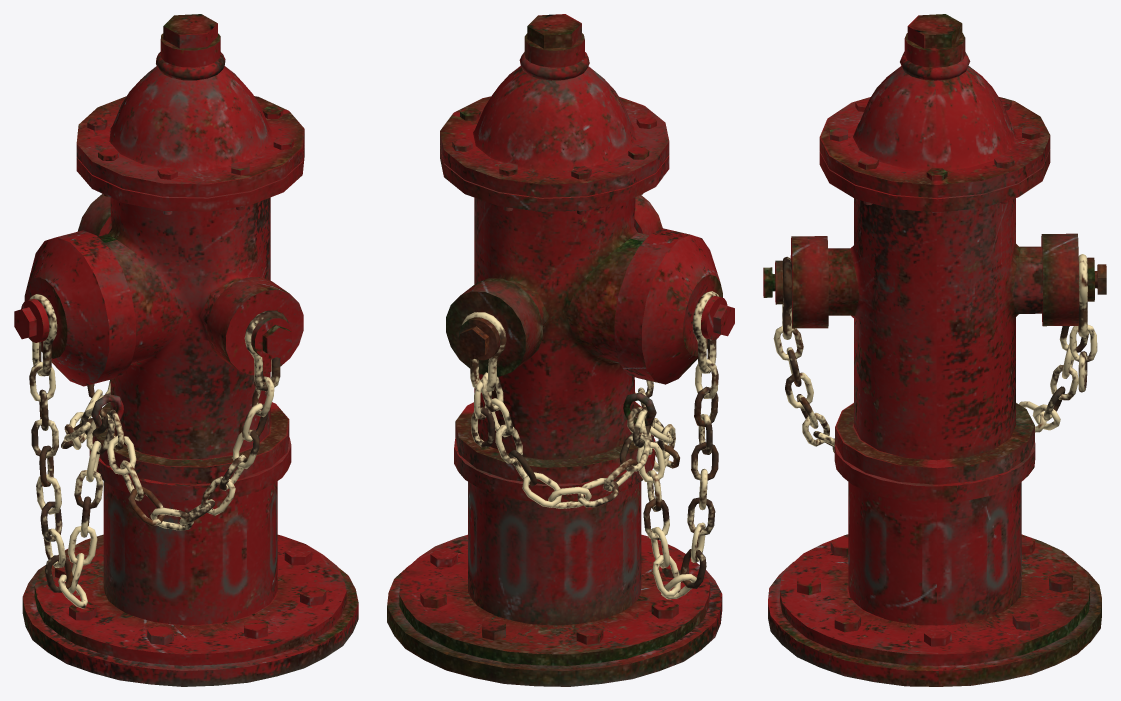
File: Prop_FireHydrant.fbx
3 views of the same model, side by side, from view 1: azimuth 30°, elevation 25°; view 2: azimuth 150°, elevation 25°; view 3: azimuth 270°, elevation 25° (orthographic).
Parts seen in each view (by area): view 1: Prop_FireHydrant; view 2: Prop_FireHydrant; view 3: Prop_FireHydrant.
Boxes of the visible parts, x1,y1,x2,y2 form: Prop_FireHydrant: (14, 14, 358, 686); Prop_FireHydrant: (387, 14, 734, 686); Prop_FireHydrant: (763, 14, 1106, 686).
Bounding box in the file's own units: 26.17 × 46.79 × 24.63.
